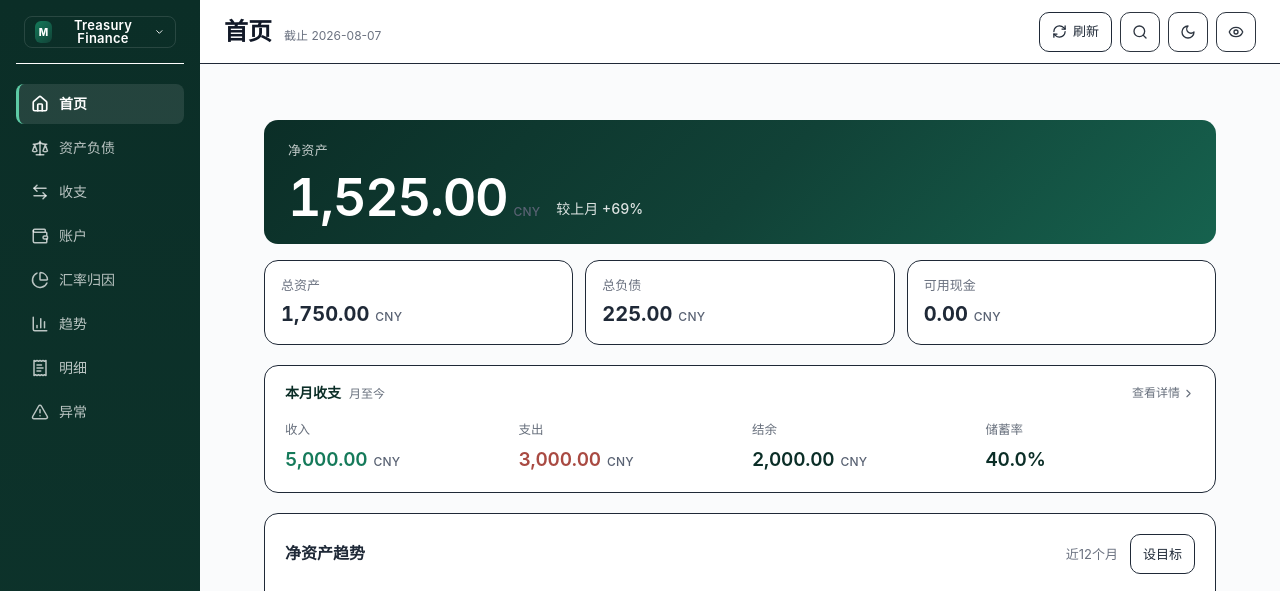
App 路由与导航 › 点击导航跳转资产负债表页
Check: the text "总资产" is shown, box [281,277,320,293]
Click the link "资产负债" at (73, 148), box [31,139,115,157]
(page scrolled)
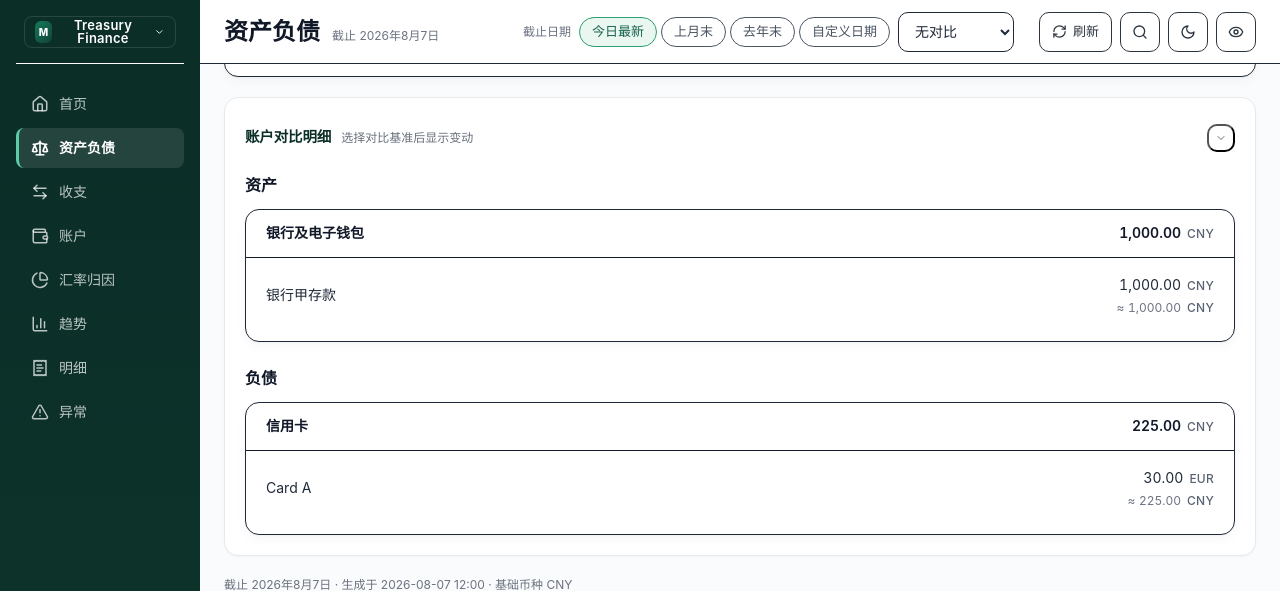
Check: the text "截止日期" is shown, box [523,22,571,40]
Check: the text "银行甲存款" is shown, box [266,284,336,306]
Check: the element with class "balance-columns" is shown, box [245,173,1235,535]
